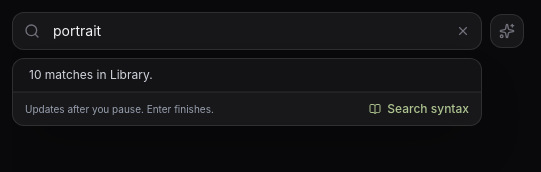
SearchBar query readiness and trigger behavior › clears the query, suggestions, and focuses the input
Click the button named "Clear Search": point(463, 31) x1=452 y1=20 x2=474 y2=42
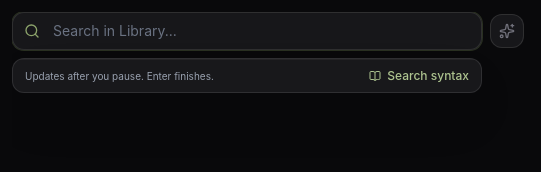
Expected: the dropdown is empty, x1=12 y1=12 x2=482 y2=50
